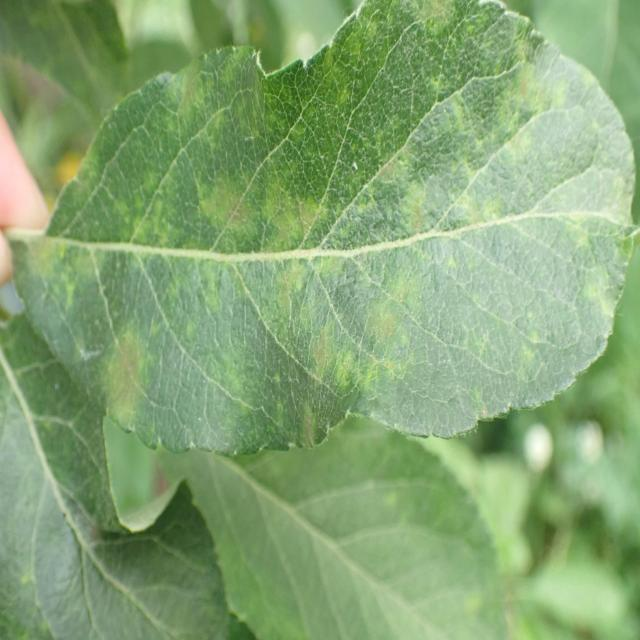scab: (31, 0, 634, 450)
